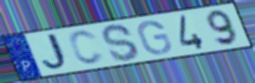4: (179, 14, 205, 51)
9: (204, 8, 241, 48)
C: (67, 29, 107, 66)
G: (136, 19, 173, 56)
J: (41, 31, 73, 73)
S: (101, 23, 142, 63)
